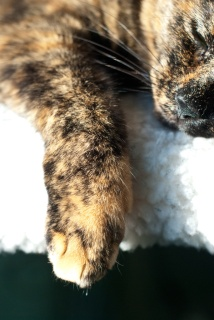Cat: (0, 0, 213, 295)
